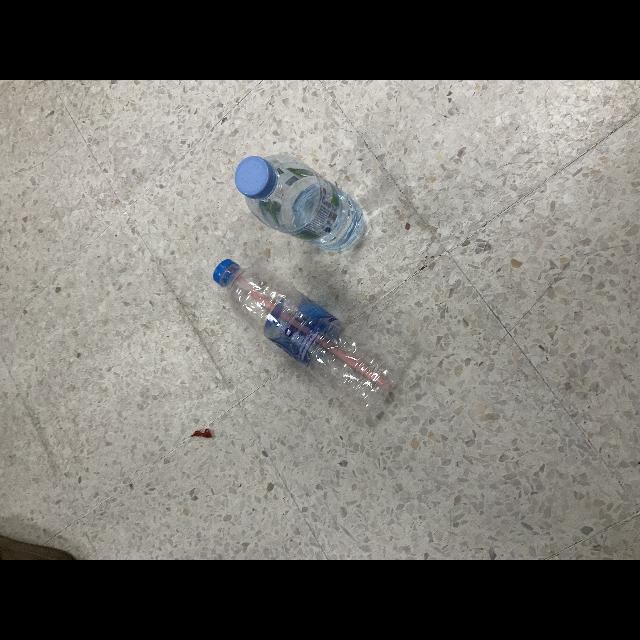plastic_bottle: (215, 259, 402, 421), (236, 157, 366, 251)
